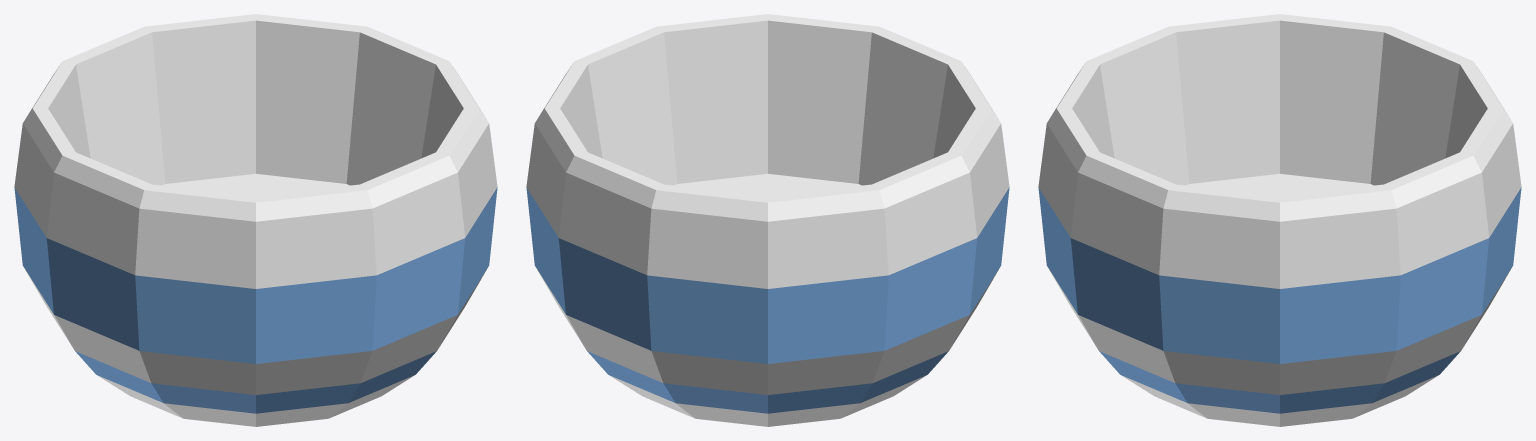
File: Deep Dish_3.fbx
The picture shows the model from 3 angles, left to right: view 1: azimuth 30°, elevation 25°; view 2: azimuth 150°, elevation 25°; view 3: azimuth 270°, elevation 25°; orthographic projection.
Parts seen in each view (by area): view 1: Deep Dish_3; view 2: Deep Dish_3; view 3: Deep Dish_3.
Boxes of the visible parts, left/top/right/bottom form: Deep Dish_3: left=14, top=14, right=497, bottom=426; Deep Dish_3: left=526, top=14, right=1009, bottom=426; Deep Dish_3: left=1038, top=14, right=1521, bottom=426.
Size of the model in its own units: 0.1349 by 0.0793 by 0.1349.
